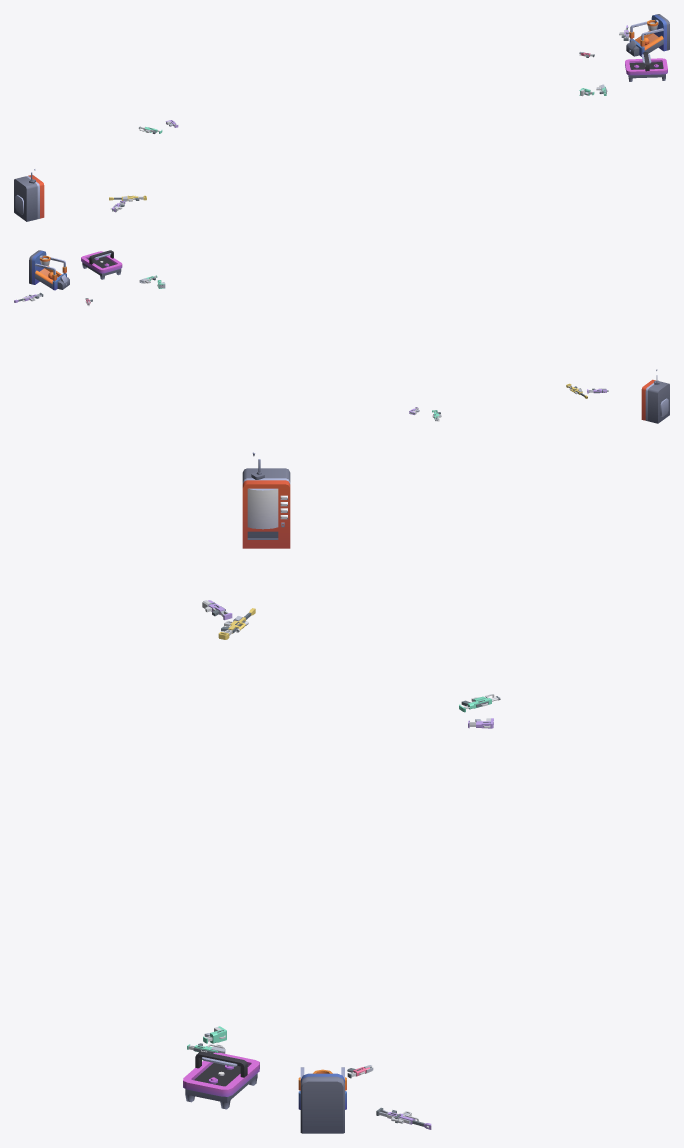
File: floor_decoration 1.fbx
The picture shows the model from 3 angles, top to bottom: view 1: azimuth 30°, elevation 25°; view 2: azimuth 150°, elevation 25°; view 3: azimuth 270°, elevation 25°; orthographic projection. The views are drawn at different scales.
Parts seen in each view (by area): view 1: decoration; view 2: decoration; view 3: decoration.
Part boxes in pixels (box(x1,y1,x2,y2)): decoration: box(14, 14, 669, 221); decoration: box(14, 250, 669, 423); decoration: box(183, 452, 500, 1133).
Bounding box in the file's own units: 6614 × 483 × 1476.
Materials: 43 (4 with a texture image).
